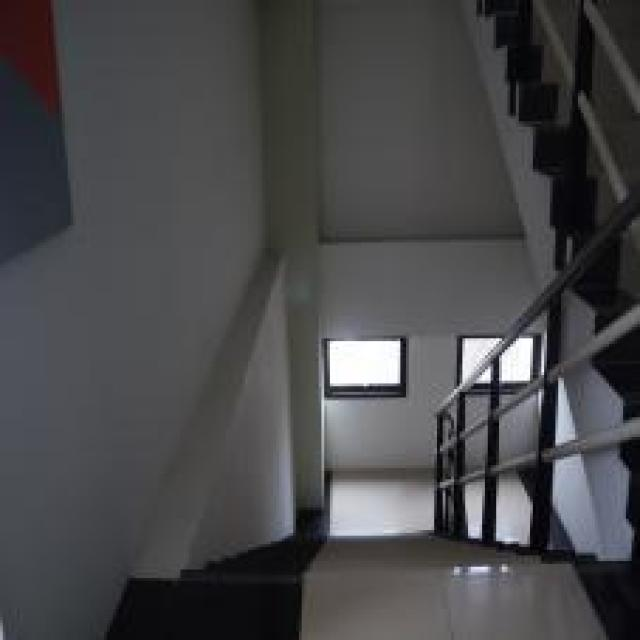downstair: (272, 539, 506, 627)
